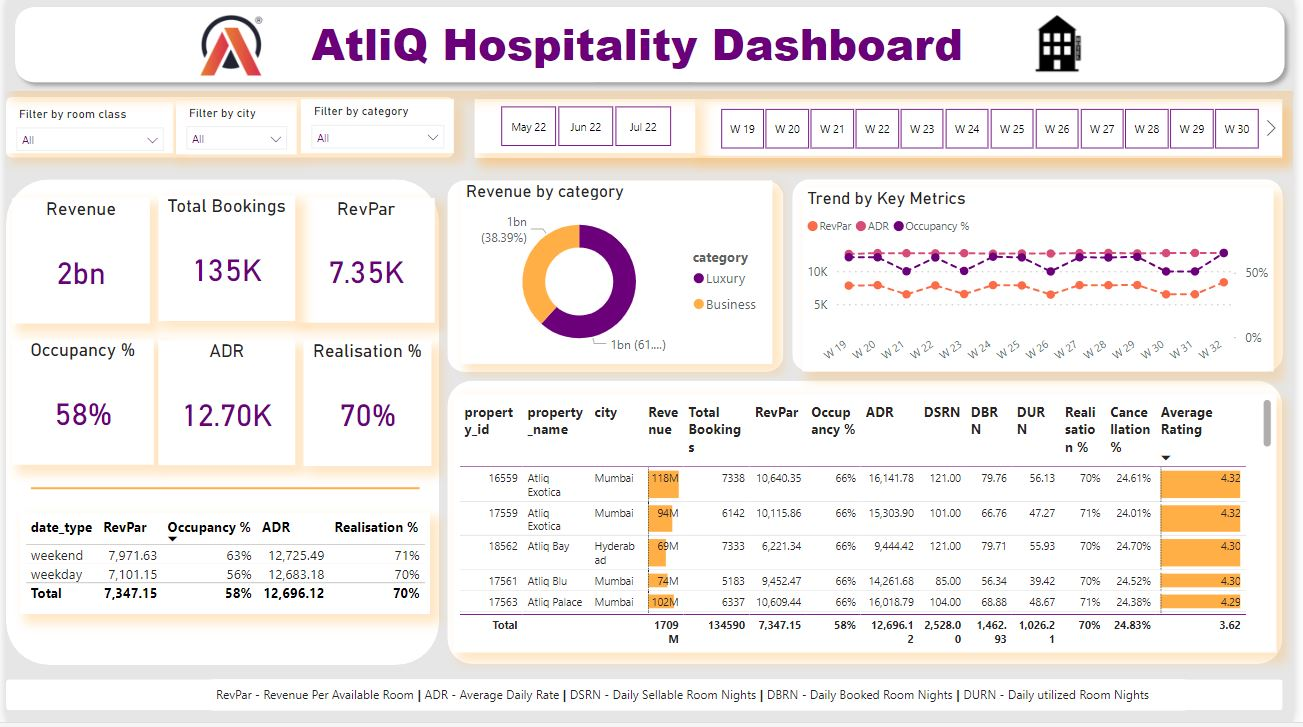

Layout of this report page (visuals, bound fields, positions):
{"tool":"powerbi","page":{"name":"Overall Analysis","canvas":[1280,720],"ordinal":0},"visuals":[{"type":"shape","box":[0,179.7,430.8,483.2],"z":0},{"type":"card","title":"Occupancy %","fields":{"Values":["Key_Measures.Occupancy %"]},"box":[6,339.2,140.4,125],"z":1000},{"type":"card","title":"Revenue","fields":{"Values":["Key_Measures.Revenue"]},"box":[6,198.7,136.9,125],"z":2000},{"type":"card","title":"RevPar","fields":{"Values":["Key_Measures.RevPar"]},"box":[289.2,198.7,136.9,123.8],"z":3000},{"type":"card","title":"Total Bookings","fields":{"Values":["Key_Measures.Total Bookings"]},"box":[151.1,196.4,135.7,125],"z":4000},{"type":"card","title":"ADR","fields":{"Values":["Key_Measures.ADR"]},"box":[151.1,340.4,135.7,123.8],"z":5000},{"type":"card","title":"Realisation %","fields":{"Values":["Key_Measures.Realisation"]},"box":[296.3,340.4,127.3,125],"z":6000},{"type":"shape","box":[439.1,180.9,334.4,190.4],"z":7000},{"type":"donutChart","fields":{"Y":["Key_Measures.Revenue"],"Category":["dim_hotels.category"]},"box":[452.2,180.9,309.4,182.1],"z":8000},{"type":"shape","box":[439.1,380.8,830.7,282],"z":9000},{"type":"tableEx","fields":{"Values":["dim_hotels.property_id","dim_hotels.property_name","dim_hotels.city","Key_Measures.Revenue","Key_Measures.Total Bookings","Key_Measures.RevPar","Key_Measures.Occupancy %","Key_Measures.ADR","Key_Measures.DSRN","Key_Measures.DBRN","Key_Measures.DURN","Key_Measures.Realisation %"]},"box":[445.1,393.9,818.8,257.1],"z":10000},{"type":"shape","box":[781.9,179.7,487.9,191.6],"z":11000},{"type":"lineChart","title":"Trend by Key Metrics","fields":{"Y":["Key_Measures.RevPar","Key_Measures.ADR"],"Y2":["Key_Measures.Occupancy %"],"Category":["dim_date.date.Variation.Date Hierarchy.Month","dim_date.week no"]},"box":[791.4,189.2,468.9,182.1],"z":12000},{"type":"shape","box":[0,98.8,445.1,60.7],"z":13000},{"type":"slicer","fields":{"Values":["dim_rooms.room_class"]},"box":[0,103.5,166.6,51.2],"z":14000},{"type":"slicer","fields":{"Values":["dim_hotels.city"]},"box":[169,102.3,120.2,53.6],"z":15000},{"type":"shape","box":[466.5,101.2,803.3,58.3],"z":16000},{"type":"slicer","fields":{"Values":["dim_date.week no"]},"box":[685.5,103.5,584.3,53.6],"z":17000},{"type":"slicer","fields":{"Values":["dim_date.mmm yy"]},"box":[466.5,101.2,219,53.6],"z":18000},{"type":"shape","box":[0,0,1280.5,92.8],"z":19000},{"type":"image","box":[177.3,10.7,94,71.4],"z":20000},{"type":"image","box":[981.8,10.7,129.7,71.4],"z":21000},{"type":"textbox","box":[289.2,9.5,676,72.6],"z":22000},{"type":"slicer","fields":{"Values":["dim_hotels.category"]},"box":[292.8,101.2,152.3,53.6],"z":23000},{"type":"shape","box":[25,478.4,386.8,17.9],"z":24000},{"type":"tableEx","fields":{"Values":["dim_date.date_type","Key_Measures.RevPar","Key_Measures.Occupancy %","Key_Measures.ADR","Key_Measures.Realisation %"]},"box":[14.3,511.7,408.2,100],"z":25000},{"type":"shape","box":[0,677.2,1269.8,30.9],"z":26000},{"type":"textbox","box":[203.5,677.2,968.7,30.9],"z":27000}]}

Visuals, with their boxes in screenshot pixels (x1, y1, x2, y2), scaled from the page's 1280x720 canvas onto the 1303x727 screenshot:
shape: x1=0 y1=181 x2=439 y2=669
"Occupancy %" card: x1=6 y1=342 x2=149 y2=469
"Revenue" card: x1=6 y1=201 x2=145 y2=327
"RevPar" card: x1=294 y1=201 x2=434 y2=326
"Total Bookings" card: x1=154 y1=198 x2=292 y2=325
"ADR" card: x1=154 y1=344 x2=292 y2=469
"Realisation %" card: x1=302 y1=344 x2=431 y2=470
shape: x1=447 y1=183 x2=787 y2=375
donutChart - Key_Measures.Revenue x dim_hotels.category: x1=460 y1=183 x2=775 y2=367
shape: x1=447 y1=385 x2=1293 y2=669
tableEx - dim_hotels.property_id x dim_hotels.property_name: x1=453 y1=398 x2=1287 y2=657
shape: x1=796 y1=181 x2=1293 y2=375
"Trend by Key Metrics" lineChart: x1=806 y1=191 x2=1283 y2=375
shape: x1=0 y1=100 x2=453 y2=161
slicer - dim_rooms.room_class: x1=0 y1=105 x2=170 y2=156
slicer - dim_hotels.city: x1=172 y1=103 x2=294 y2=157
shape: x1=475 y1=102 x2=1293 y2=161
slicer - dim_date.week no: x1=698 y1=105 x2=1293 y2=159
slicer - dim_date.mmm yy: x1=475 y1=102 x2=698 y2=156
shape: x1=0 y1=0 x2=1302 y2=94
image: x1=180 y1=11 x2=276 y2=83
image: x1=999 y1=11 x2=1131 y2=83
textbox: x1=294 y1=10 x2=983 y2=83
slicer - dim_hotels.category: x1=298 y1=102 x2=453 y2=156
shape: x1=25 y1=483 x2=419 y2=501
tableEx - dim_date.date_type x Key_Measures.RevPar: x1=15 y1=517 x2=430 y2=618
shape: x1=0 y1=684 x2=1293 y2=715
textbox: x1=207 y1=684 x2=1193 y2=715
